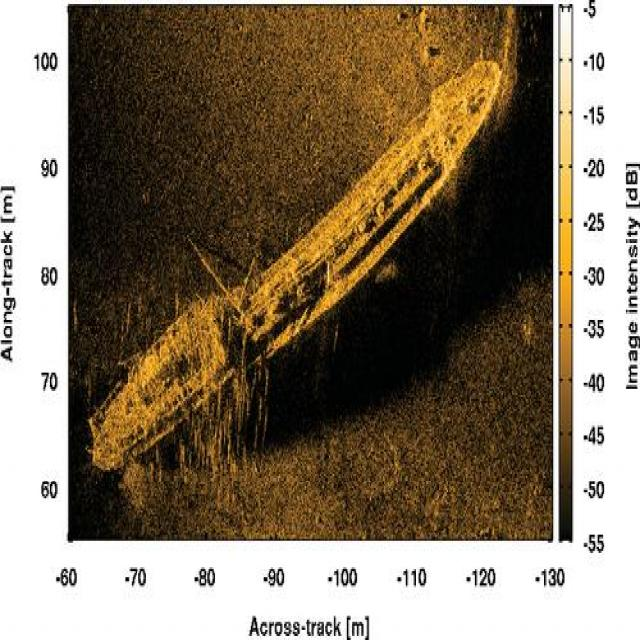ship: (87, 53, 502, 482)
